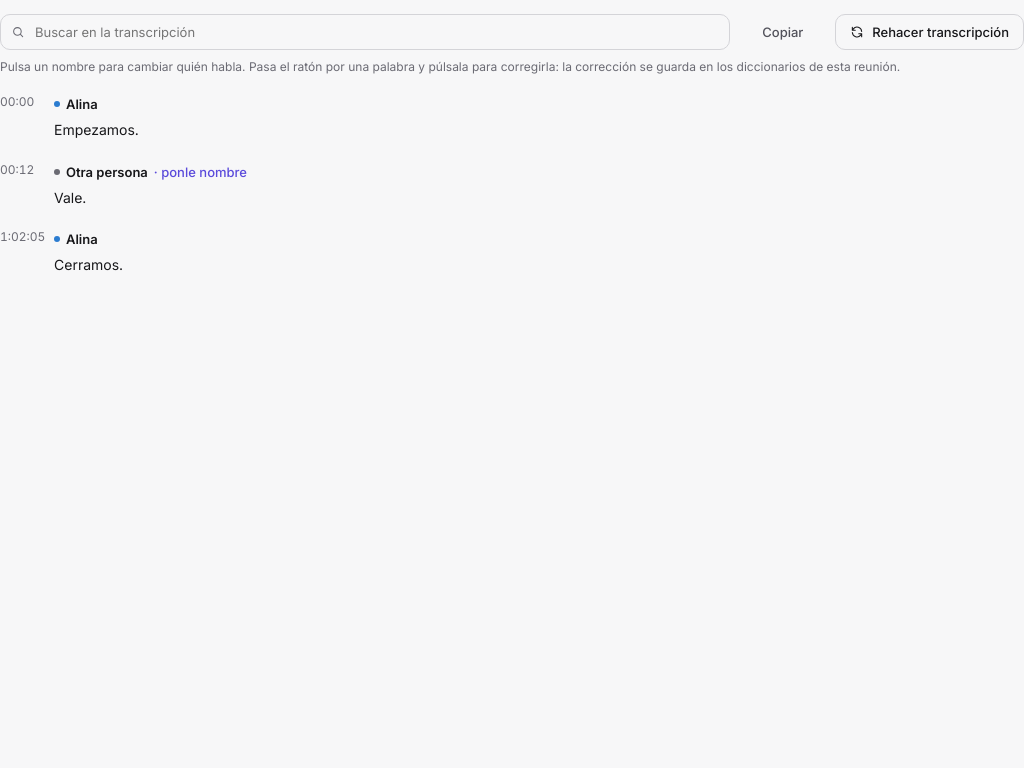
Scenario: «Rehacer transcripción» (annex, change 7) › names the meeting's dictionaries, and keeps the note, with a hub that takes lists
The image size is (1024, 768).
Click the button "Rehacer transcripción".
click(930, 32)  # box [835, 14, 1023, 50]
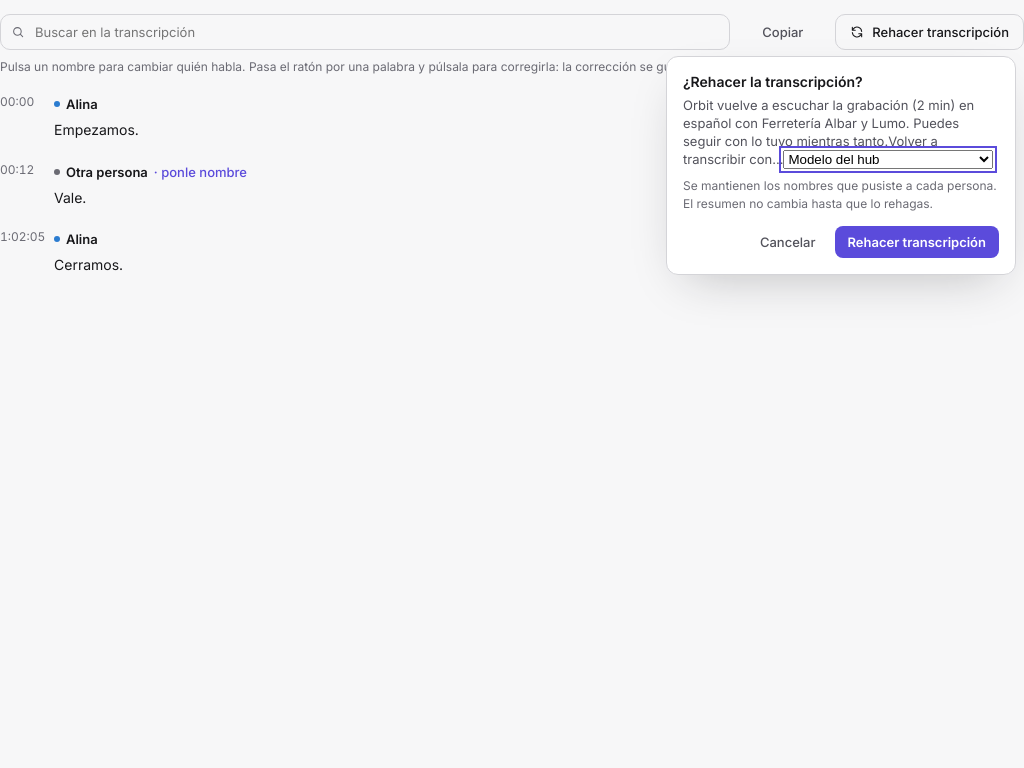
Expected: the dialog "¿Rehacer la transcripción?" shows "en español con Ferretería Albar y Lumo.", [683, 97, 974, 149]
Expected: the dialog "¿Rehacer la transcripción?" shows "Se mantienen los nombres que pusiste a cada persona. El resumen no cambia hasta que lo rehagas.", [683, 178, 997, 211]
Click the button "Cancelar".
click(788, 242)  # box [747, 226, 828, 258]
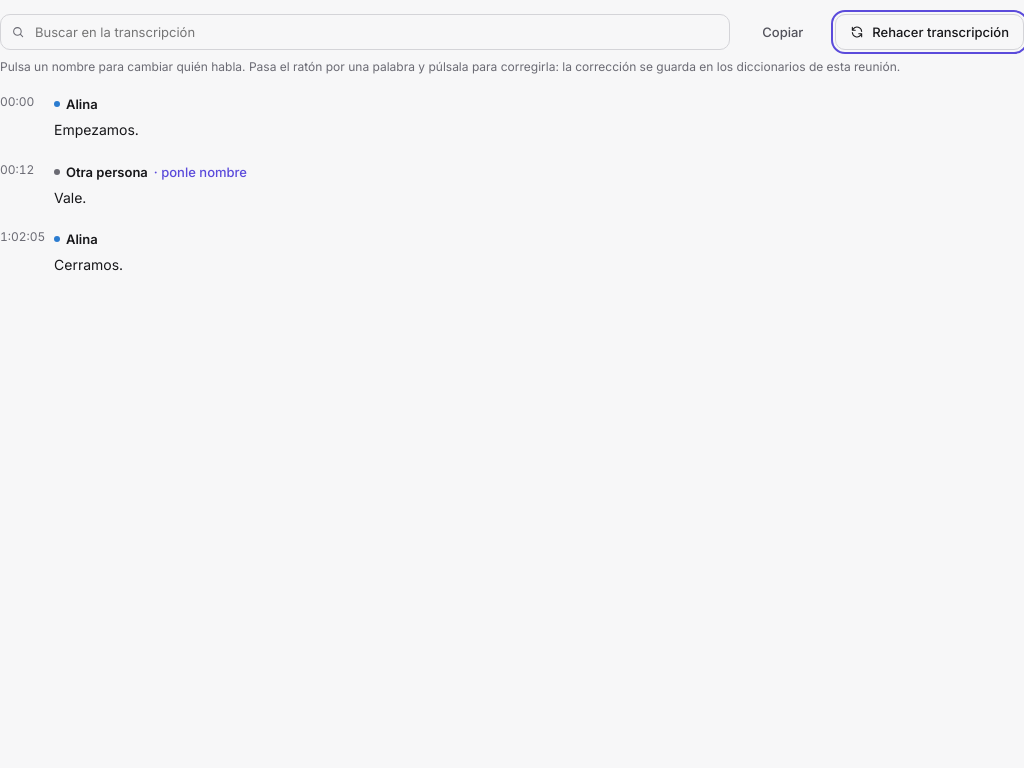
Expected: the dialog is gone
